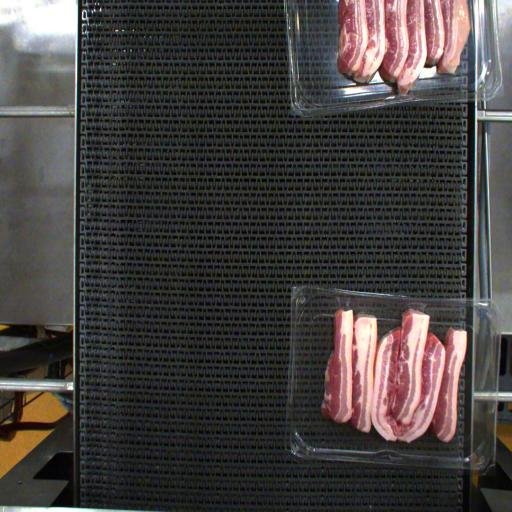packaging-error: (404, 292, 436, 322)
